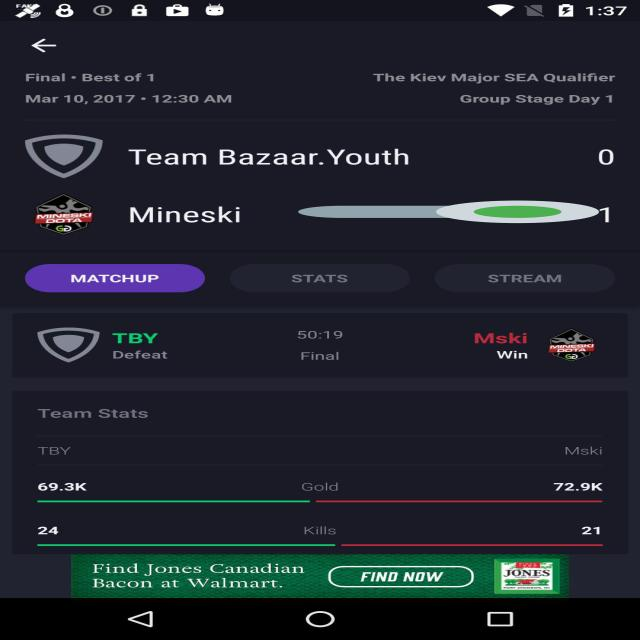social proof: (298, 191, 599, 233)
